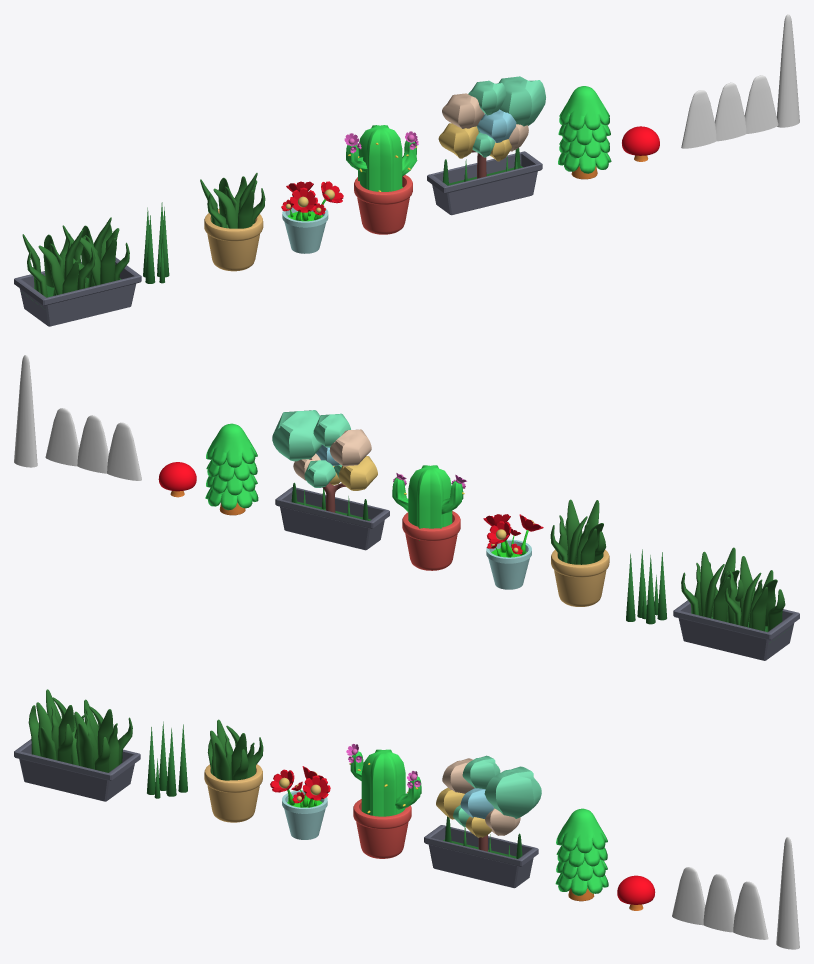
File: plantas.fbx
The picture shows the model from 3 angles, top to bottom: view 1: azimuth 30°, elevation 25°; view 2: azimuth 150°, elevation 25°; view 3: azimuth 330°, elevation 25°; orthographic projection.
Parts seen in each view (by area): view 1: Cube, Cube.002, pino 4, Cylinder.051, Cylinder.002, Cylinder, Cylinder.015, Sphere.014, Cylinder.003, Cylinder.017, Cylinder.016, Cylinder.001 (+6 smaller); view 2: Cube, pino 4, Cube.002, Cylinder.051, Cylinder.002, Cylinder, Sphere.014, Cylinder.015, Cylinder.003, Cylinder.017, Cylinder.001, Cylinder.016 (+5 smaller); view 3: Cube, pino 4, Cube.002, Cylinder.051, Cylinder, Cylinder.002, Sphere.014, Cylinder.015, Cylinder.017, Cylinder.003, Cylinder.016, Cylinder.001 (+7 smaller).
Boxes of the visible parts, left/top/right/bottom form: Cube: left=427, top=151, right=542, bottom=215; Cube.002: left=14, top=257, right=141, bottom=326; pino 4: left=558, top=86, right=611, bottom=173; Cylinder.051: left=346, top=125, right=417, bottom=191; Cylinder.002: left=354, top=174, right=412, bottom=234; Cylinder: left=204, top=209, right=263, bottom=271; Cylinder.015: left=776, top=14, right=799, bottom=127; Sphere.014: left=498, top=76, right=545, bottom=126; Cylinder.003: left=681, top=90, right=716, bottom=148; Cylinder.017: left=744, top=75, right=778, bottom=133; Cylinder.016: left=715, top=82, right=746, bottom=141; Cylinder.001: left=282, top=207, right=328, bottom=253; Cube: left=275, top=487, right=389, bottom=550; pino 4: left=205, top=423, right=258, bottom=510; Cube.002: left=673, top=595, right=799, bottom=660; Cylinder.051: left=392, top=465, right=463, bottom=540; Cylinder.002: left=402, top=511, right=460, bottom=570; Cylinder: left=551, top=549, right=609, bottom=606; Sphere.014: left=272, top=410, right=321, bottom=461; Cylinder.015: left=14, top=355, right=37, bottom=467; Cylinder.003: left=107, top=422, right=141, bottom=480; Cylinder.017: left=45, top=408, right=78, bottom=466; Cylinder.001: left=486, top=539, right=531, bottom=589; Cylinder.016: left=77, top=415, right=108, bottom=473; Cube: left=424, top=825, right=538, bottom=888; pino 4: left=555, top=808, right=608, bottom=895; Cube.002: left=14, top=739, right=140, bottom=801; Cylinder.051: left=350, top=749, right=421, bottom=816; Cylinder: left=204, top=764, right=262, bottom=822; Cylinder.002: left=353, top=799, right=411, bottom=858; Sphere.014: left=484, top=766, right=541, bottom=818; Cylinder.015: left=776, top=837, right=799, bottom=949; Cylinder.017: left=733, top=881, right=768, bottom=939; Cylinder.003: left=672, top=867, right=705, bottom=925; Cylinder.016: left=703, top=874, right=734, bottom=932; Cylinder.001: left=282, top=790, right=327, bottom=839.
Size of the model in its own units: 3031 by 475 by 227.
